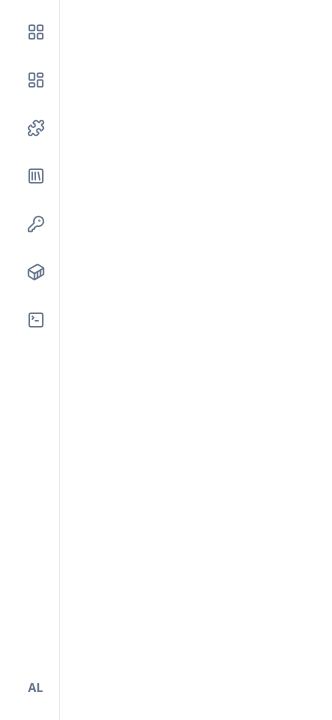
Scenario: AppShell — acces aux forfaits › propose les forfaits a un utilisateur SANS role admin
Click the button "al" at (36, 688), box 16,668 -> 56,708
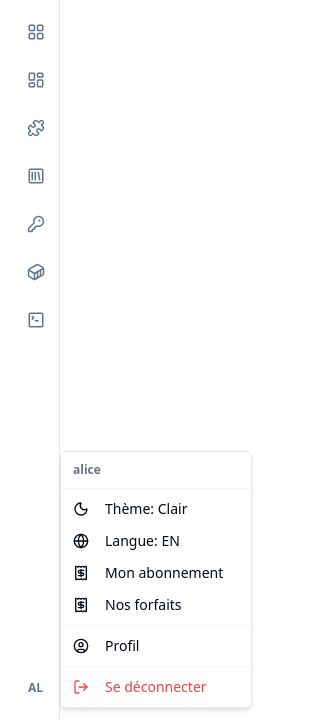
Now the menu item "Nos forfaits" is shown, box 73,595 -> 182,614
